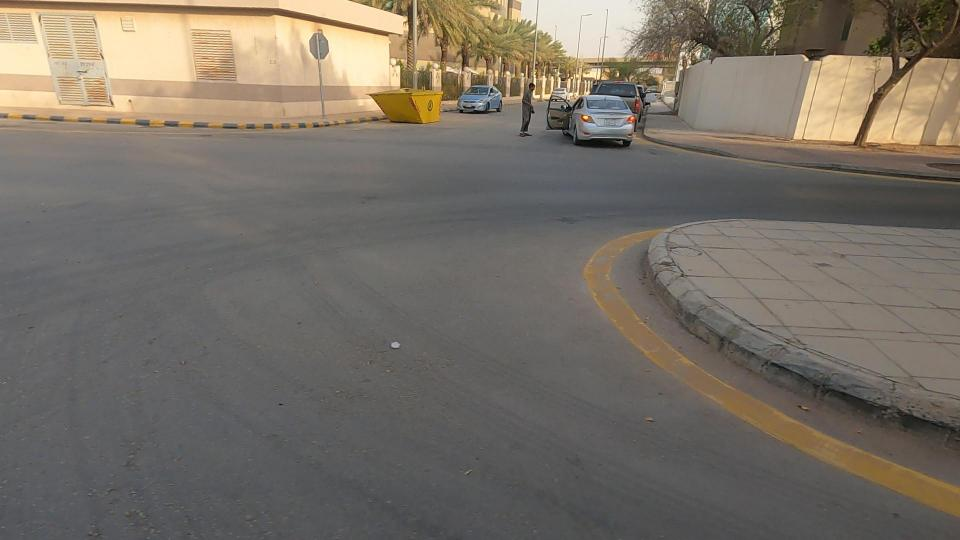GARBAGE: (314, 49, 500, 158)
